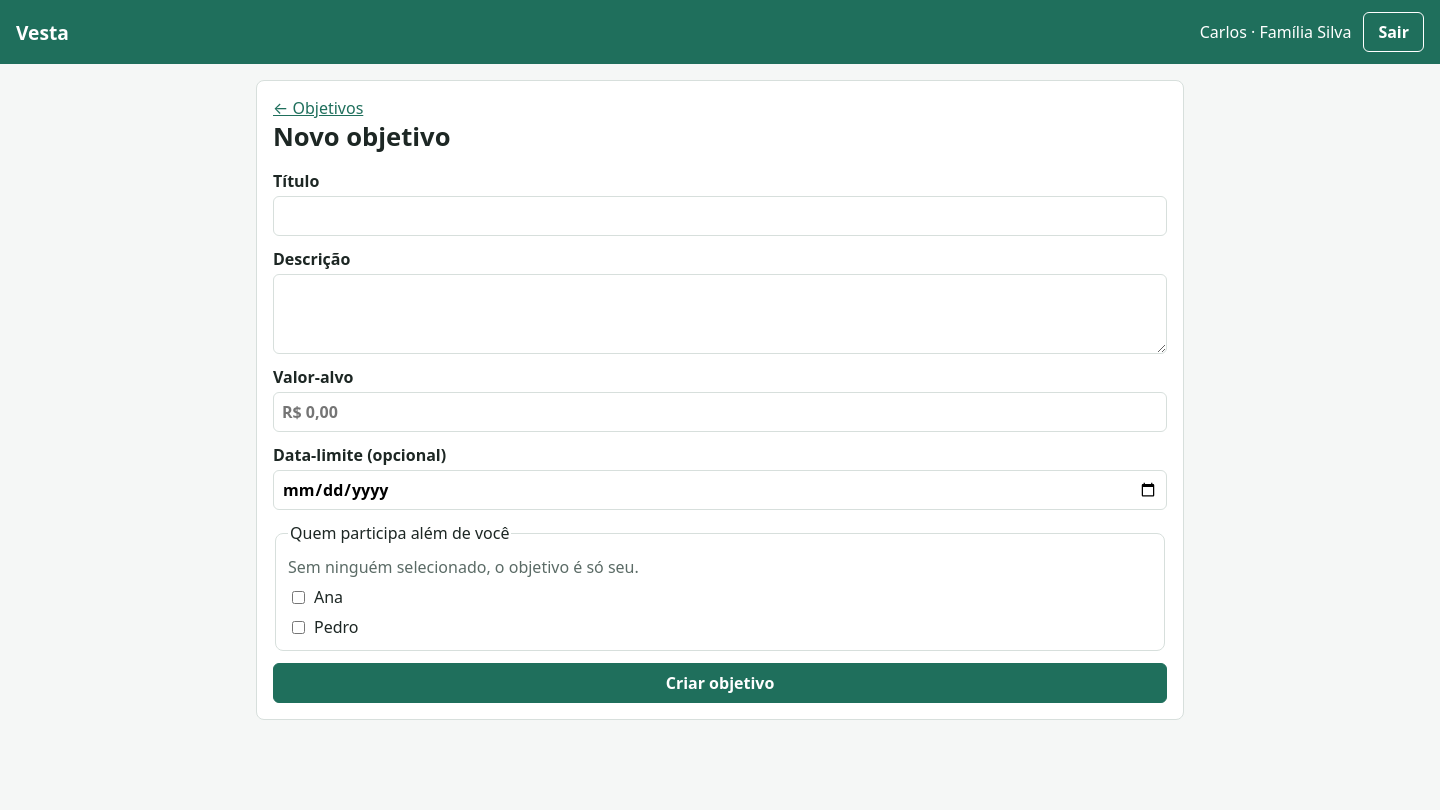
Scenario: NewGoalPage › creates a goal with the chosen members and opens it
The width and height of the screenshot is (1440, 810).
Type "Presente" into the field labelled "Título" at {"x": 720, "y": 216}, box [273,196,1167,236]
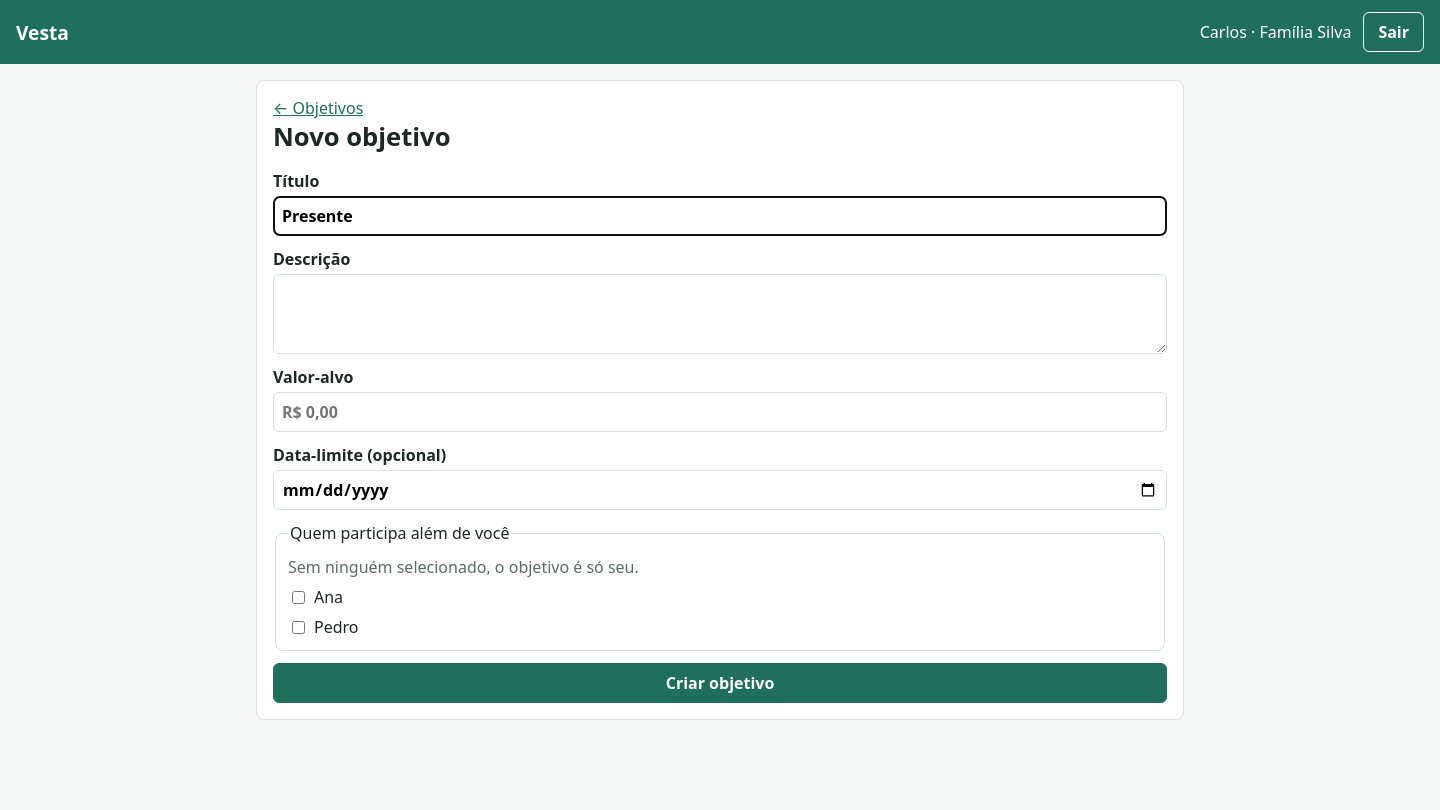
Type "30000" into the field labelled "Valor-alvo" at {"x": 720, "y": 412}, box [273,392,1167,432]
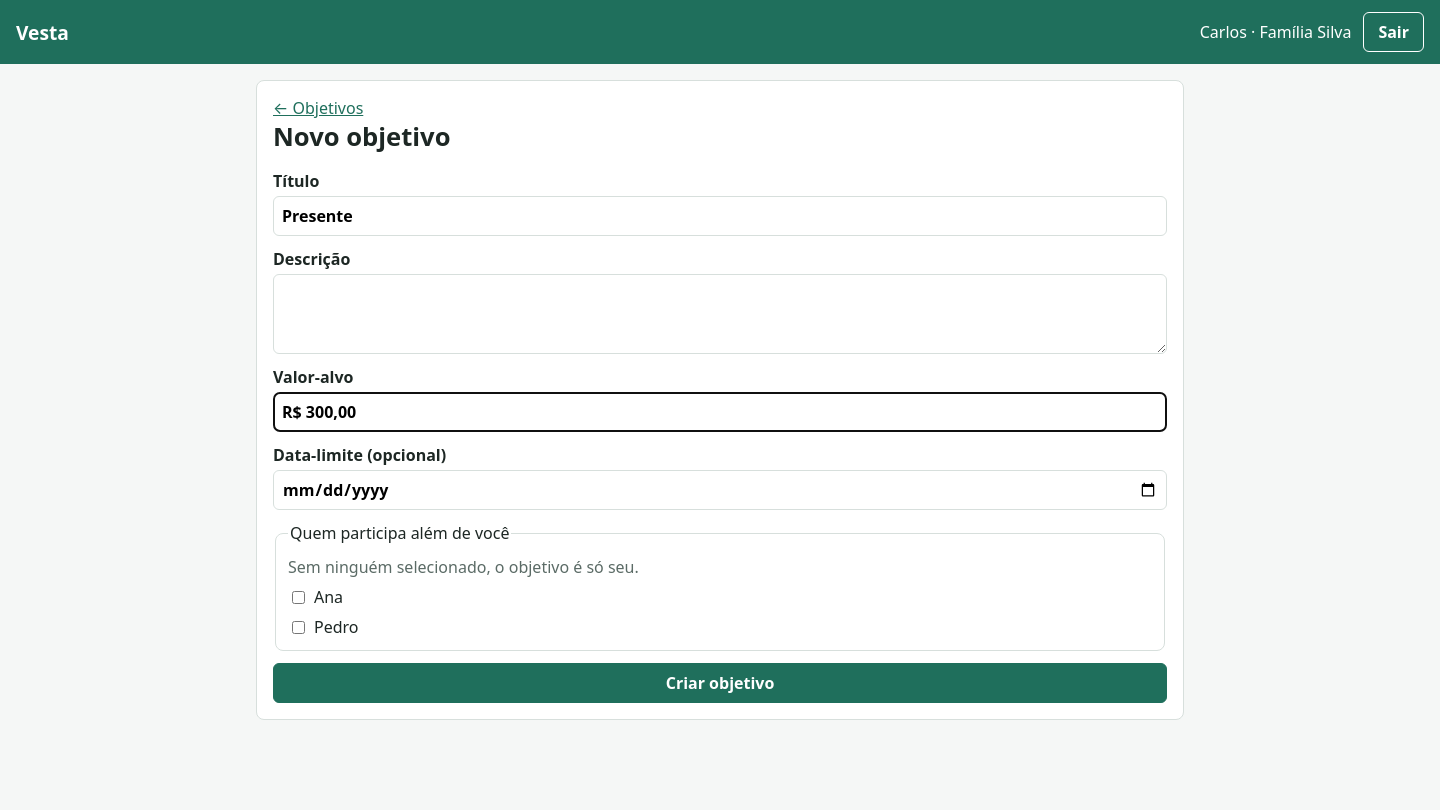
Expected: the field labelled "Valor-alvo" holds "R$ 300,00", [273,392,1167,432]
Click the checkbox labelled "Ana" at {"x": 298, "y": 597}, box [292,590,305,604]
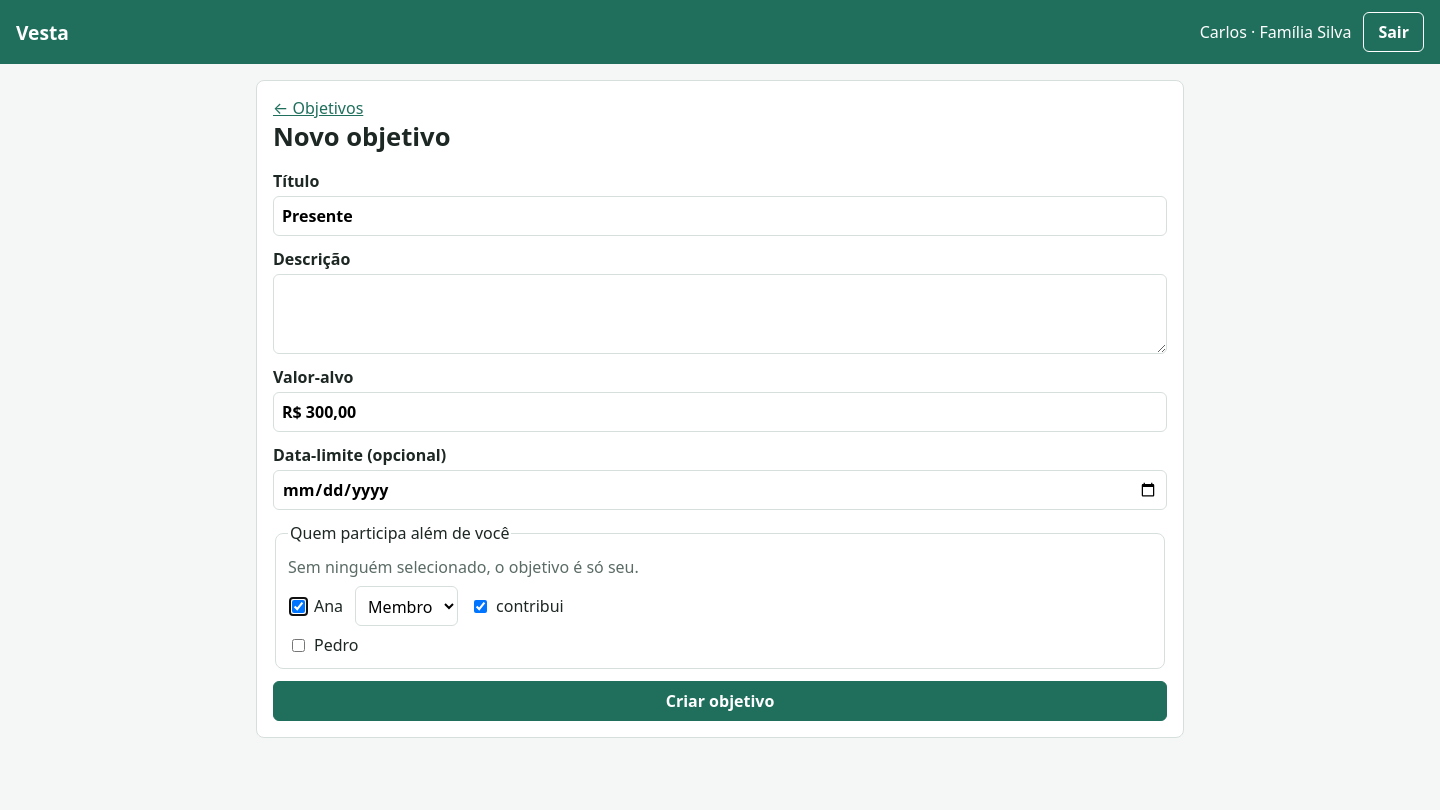
Click the checkbox labelled "contribui" at {"x": 481, "y": 606}, box [474,600,487,612]
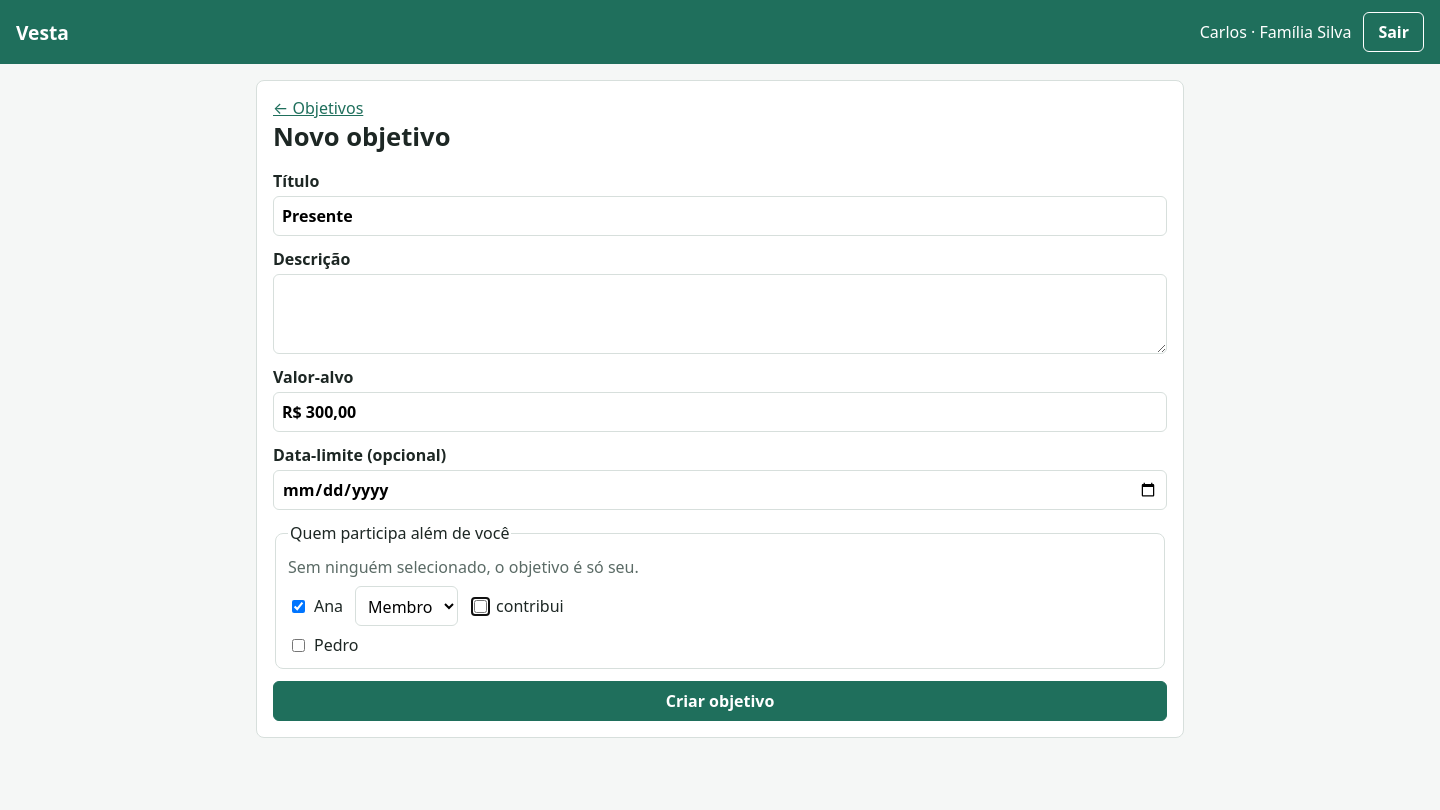
Click the button "Criar objetivo" at {"x": 720, "y": 701}, box [273,681,1167,721]
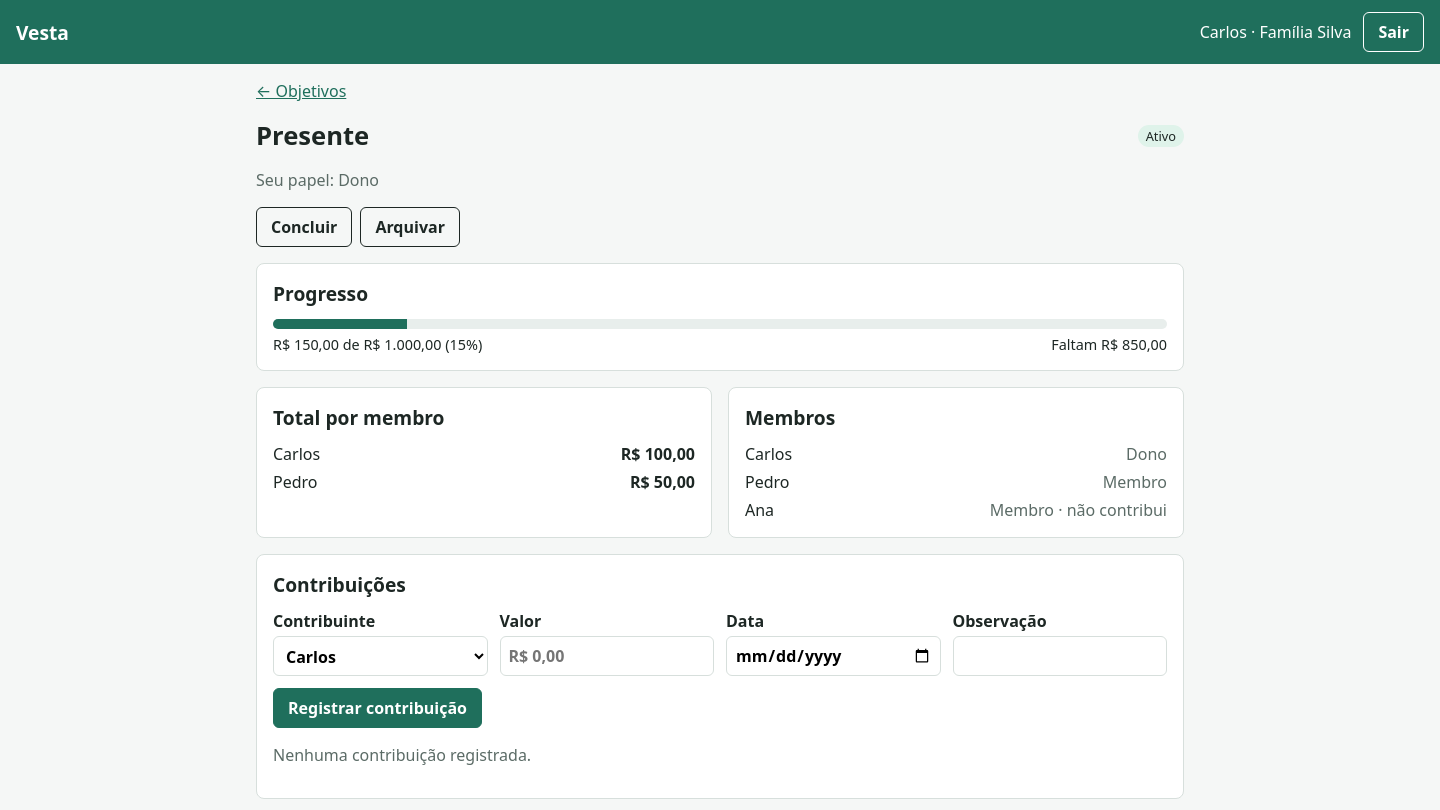
Expected: the heading "Presente" is shown, [256,118,369,153]
